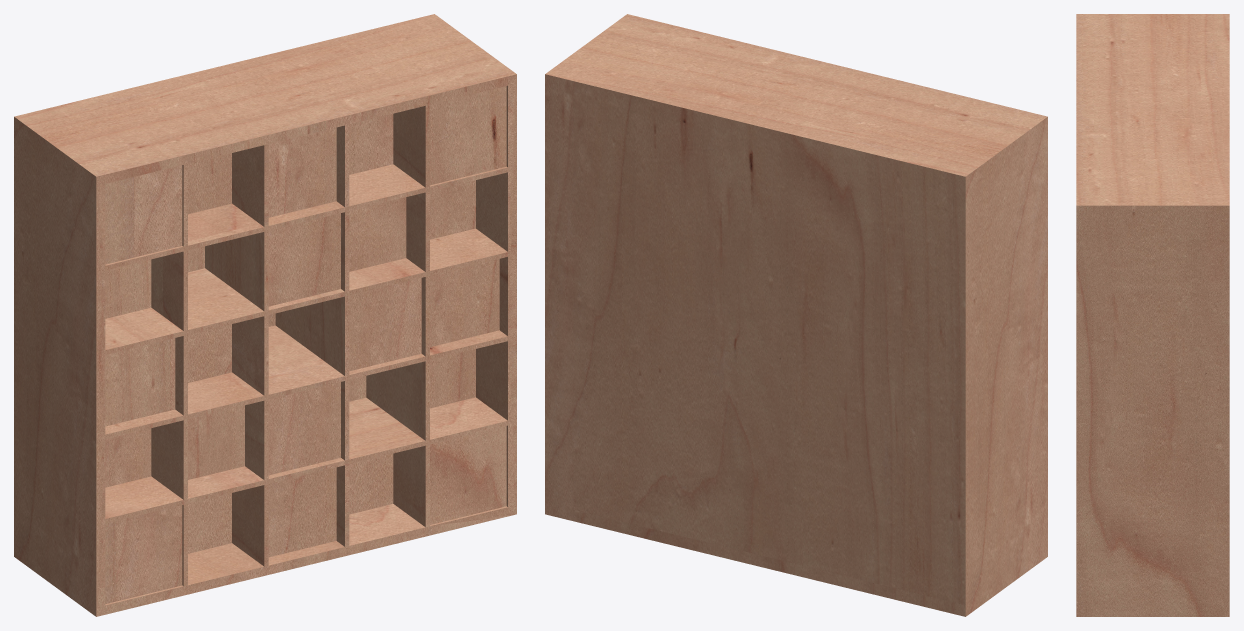
Rendered from RealDiff LD.glb.
3 views of the same model, side by side, from view 1: azimuth 30°, elevation 25°; view 2: azimuth 150°, elevation 25°; view 3: azimuth 270°, elevation 25° (orthographic). The views are drawn at different scales.
Visible parts, largest first — view 1: RealDiff LD; view 2: RealDiff LD; view 3: RealDiff LD.
Boxes of the visible parts, x1,y1,x2,y2 form: RealDiff LD: [14, 14, 516, 616]; RealDiff LD: [545, 14, 1047, 616]; RealDiff LD: [1076, 14, 1229, 616].
Size of the model in its own units: 23.62 by 23.62 by 8.
Materials: 1 (1 with a texture image).
